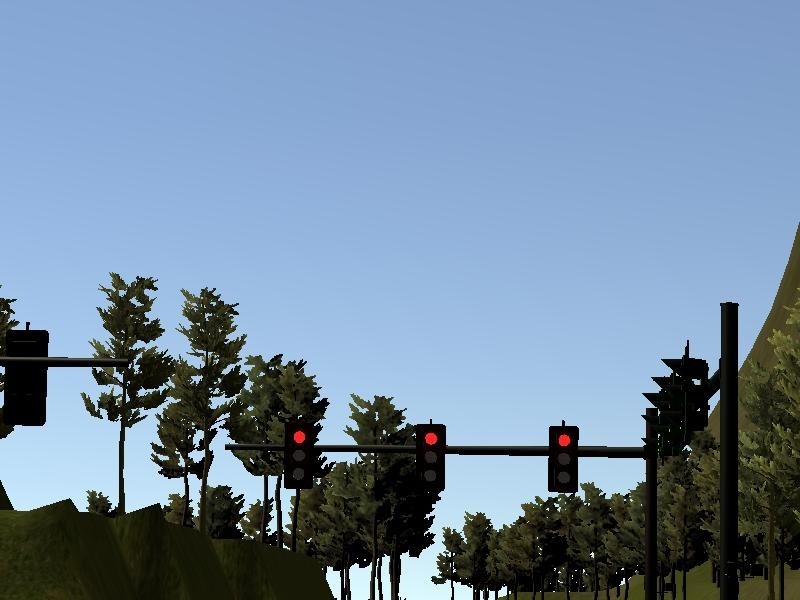red: (411, 420, 446, 493), (547, 423, 581, 493), (284, 416, 315, 491)
